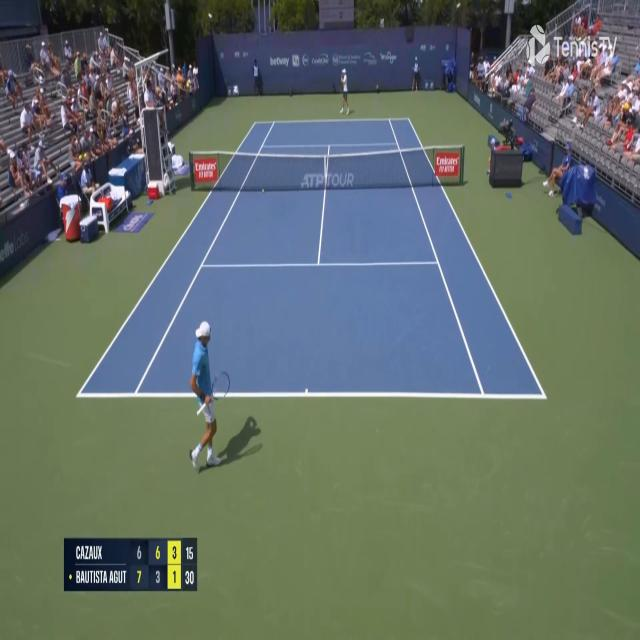tennis-player: (187, 319, 235, 476), (334, 68, 351, 116)
